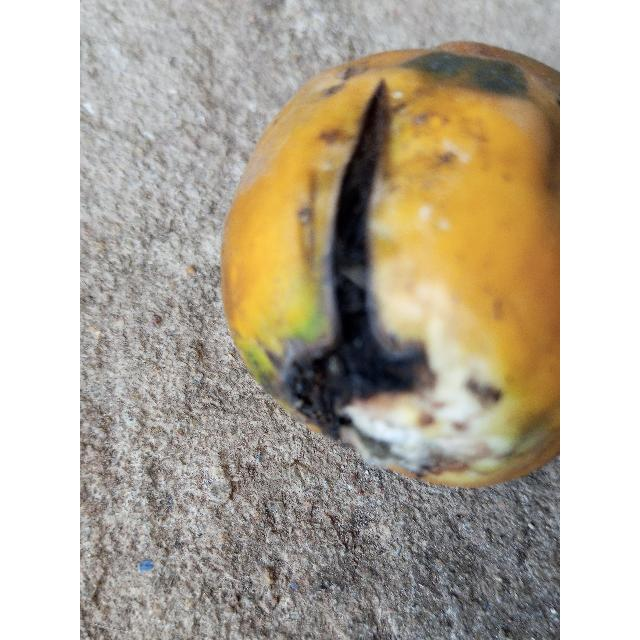damaged: (222, 43, 560, 486)
